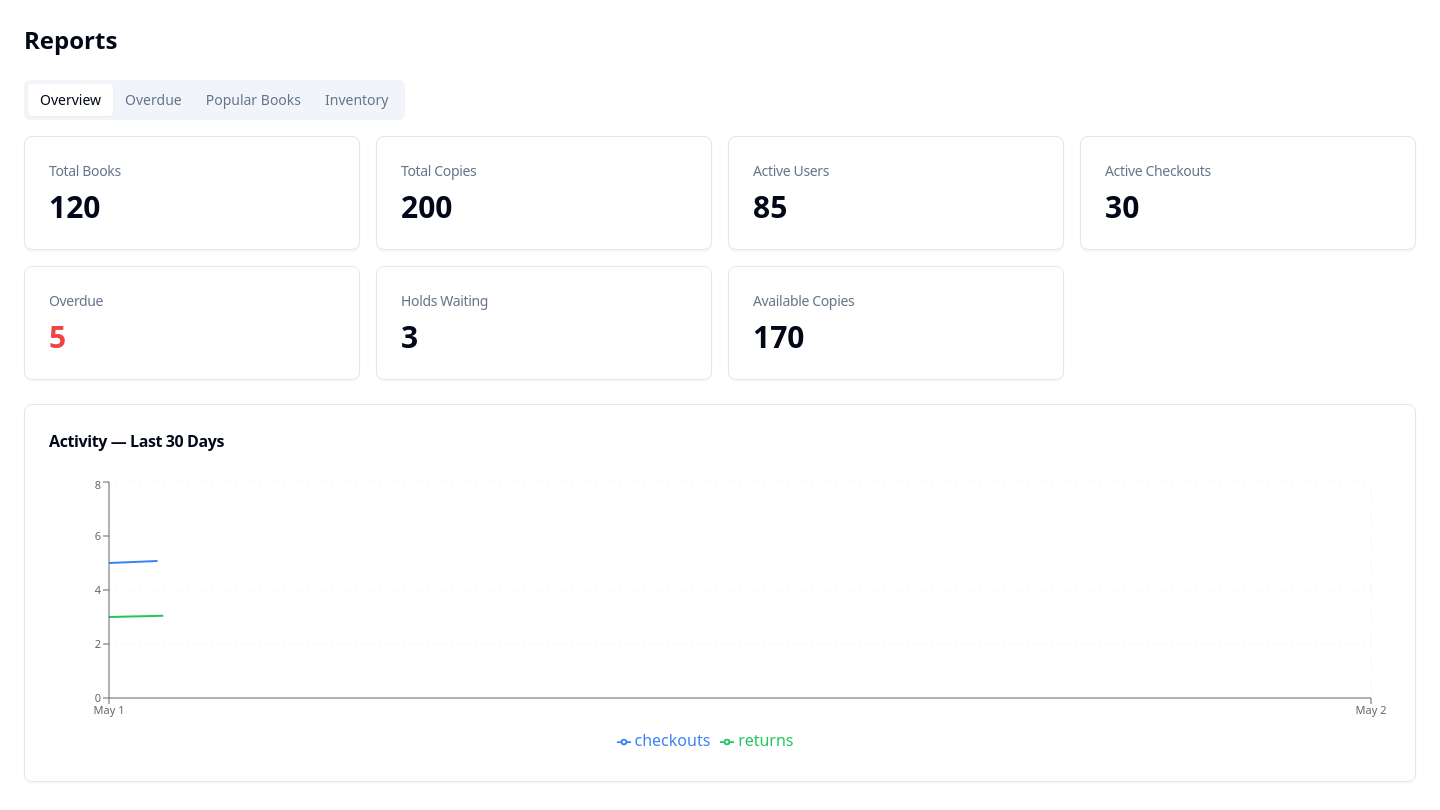
ReportsPage › highlights rows with daysOverdue >= 7 in overdue tab
Click the tab "Overdue". click: (153, 100)
box: [113, 84, 194, 116]
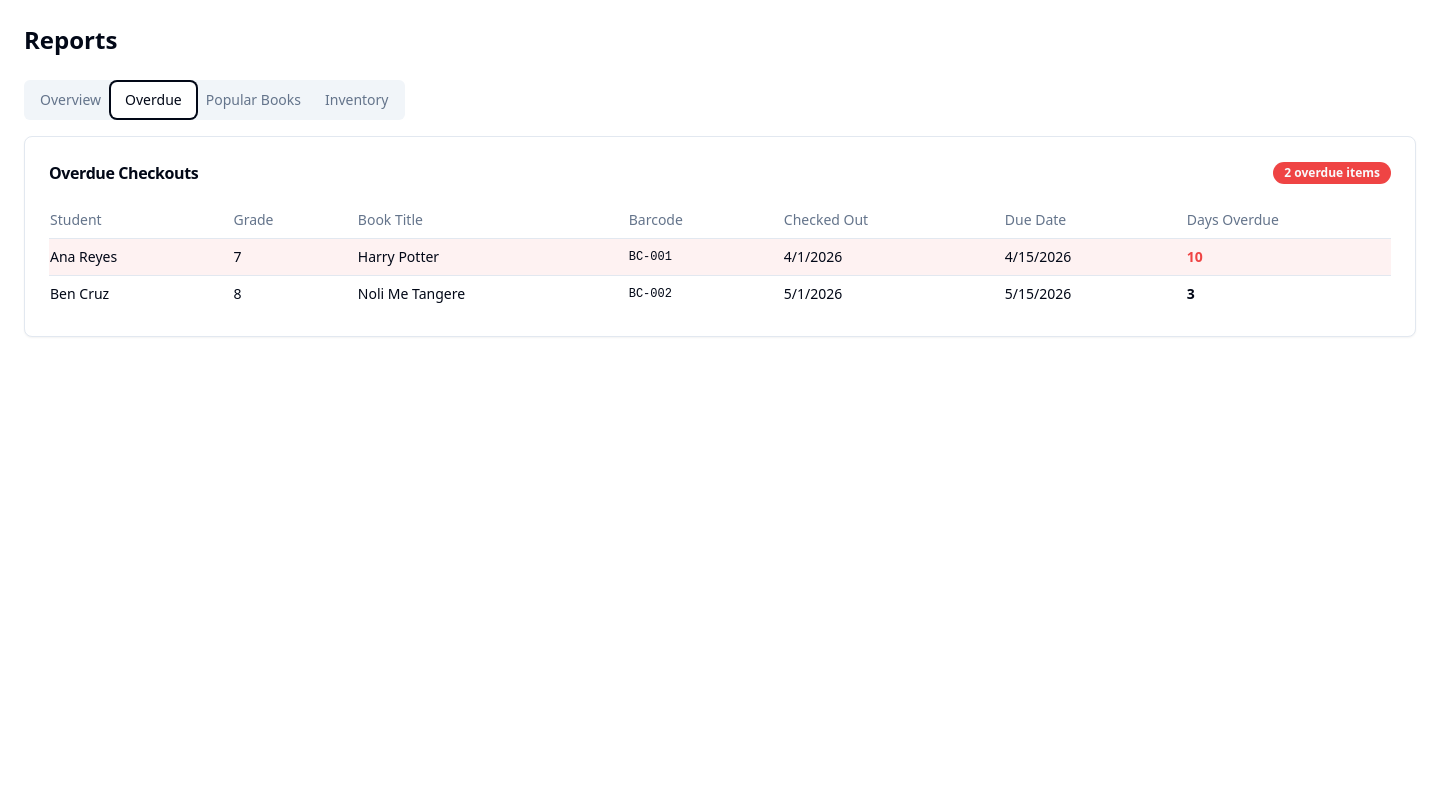
expect the text "Ana Reyes" is shown: met, box [49, 238, 232, 276]
